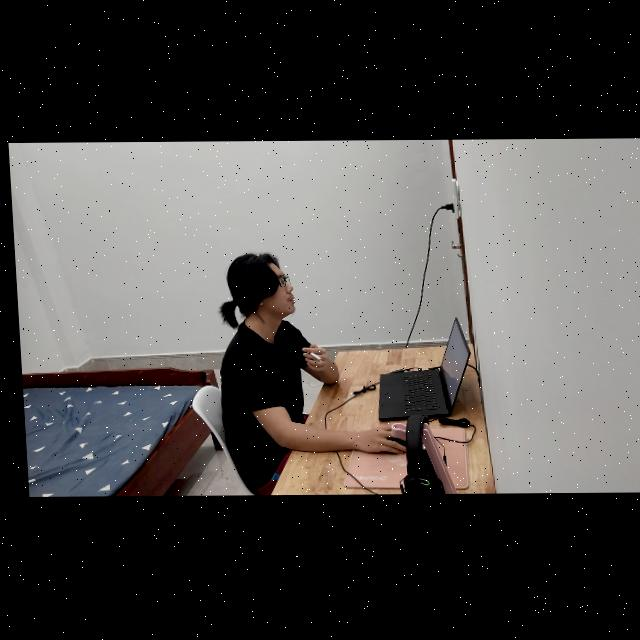cigarette: (303, 353, 317, 362)
